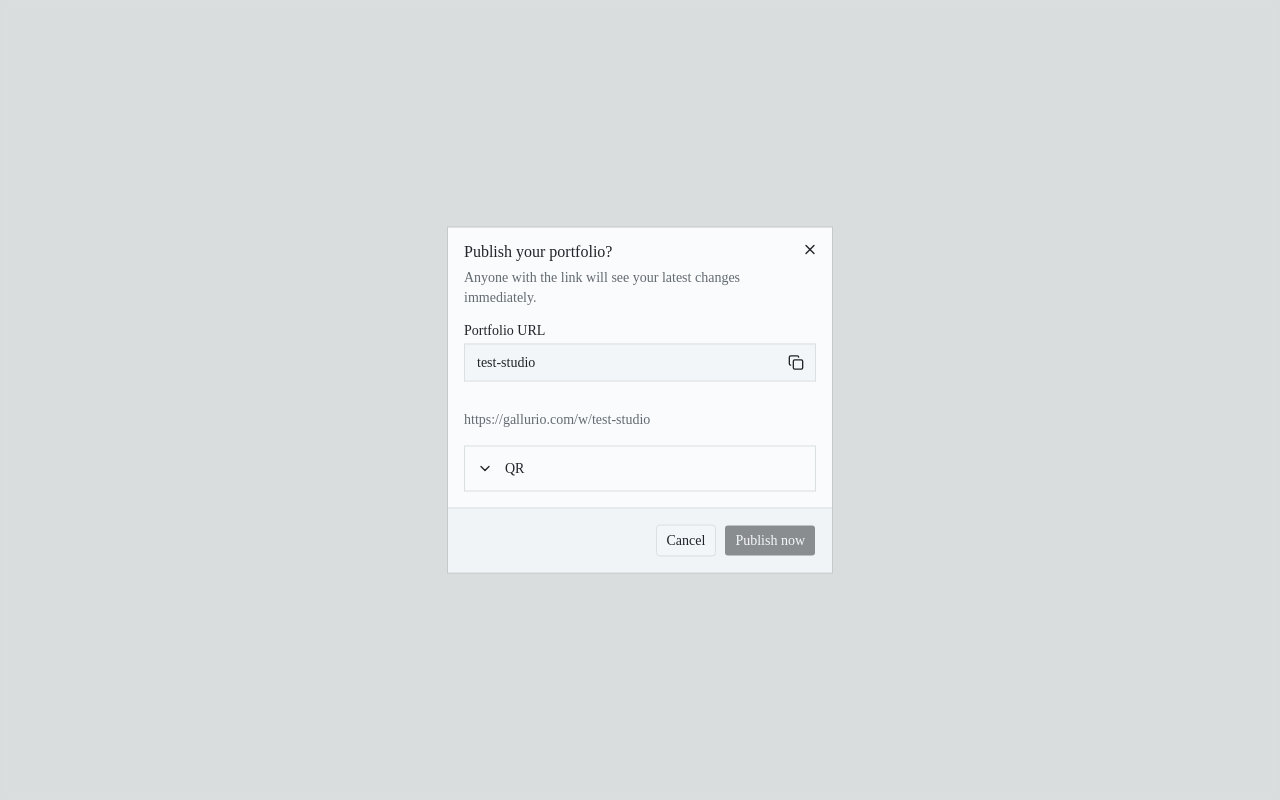
Test case: PublishDialog › shows taken error when save rejects slug
Replace the text in the field labelled "Portfolio URL" with "taken-slug": (621,362) [465,344,777,380]
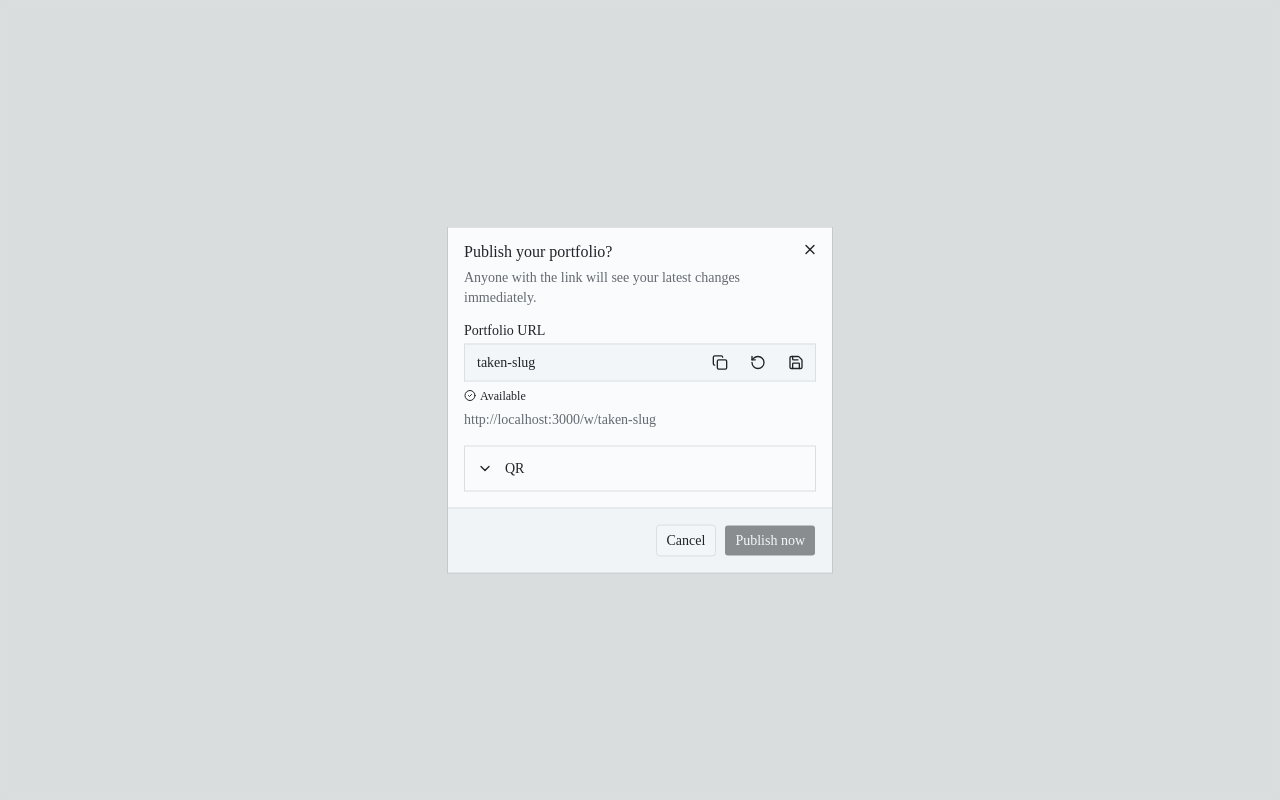
Result: the button named "save url" is enabled
Click the button named "save url": (796,362) [777,348,815,376]
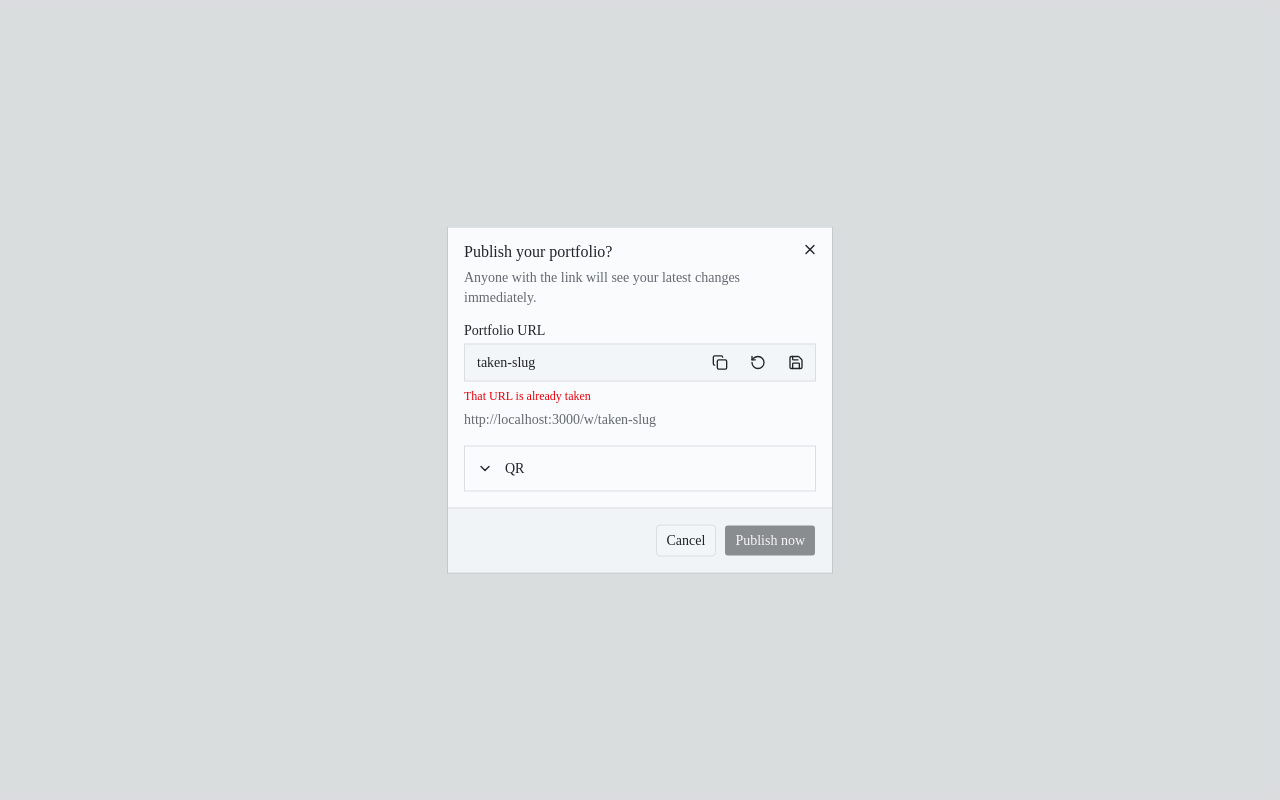
Result: the text "That URL is already taken" is shown at [464,388,591,402]
